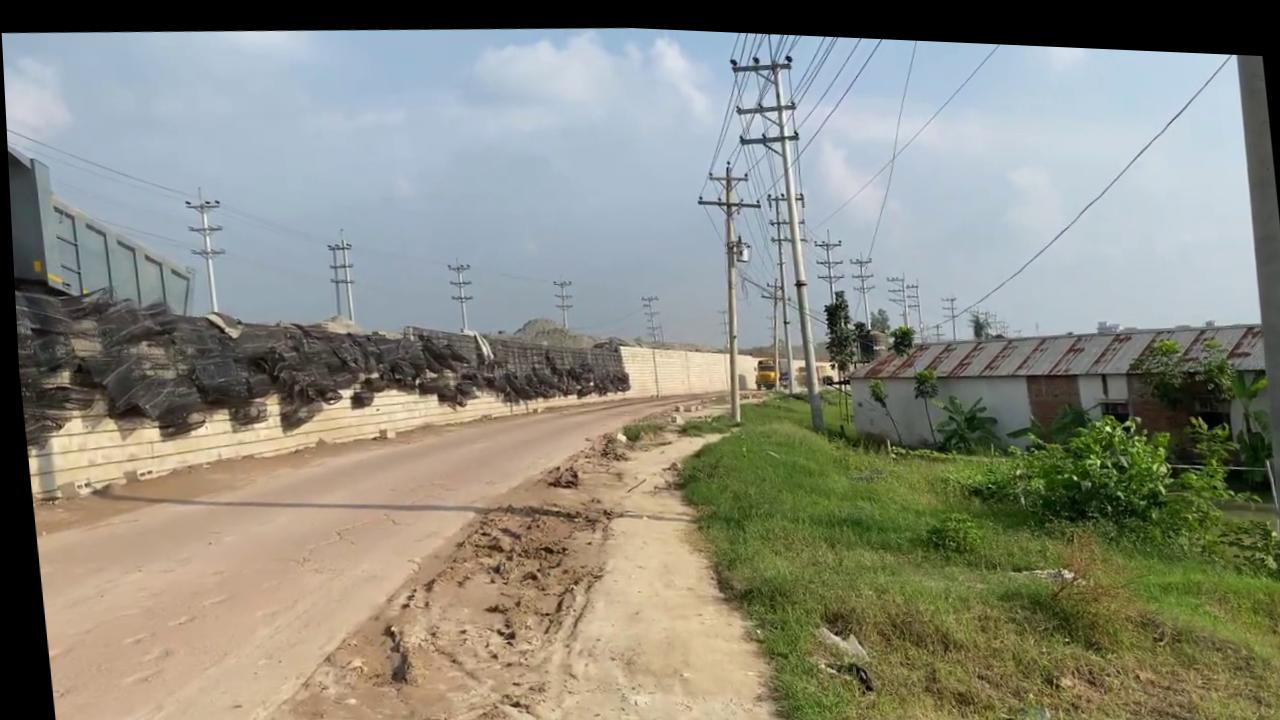Garbage: (10, 247, 632, 467)
Muddy road: (15, 351, 794, 720)
Pole: (725, 25, 827, 426), (1224, 43, 1280, 576), (690, 151, 779, 418), (179, 183, 227, 312)
Traffic-sign: (816, 280, 854, 368)
Tree: (746, 349, 786, 385), (789, 352, 831, 383), (812, 352, 842, 379)
